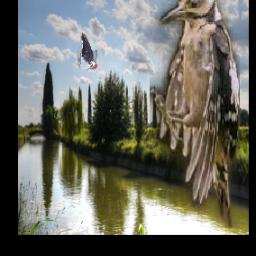Woodpecker: (150, 0, 240, 229), (78, 32, 97, 71)
